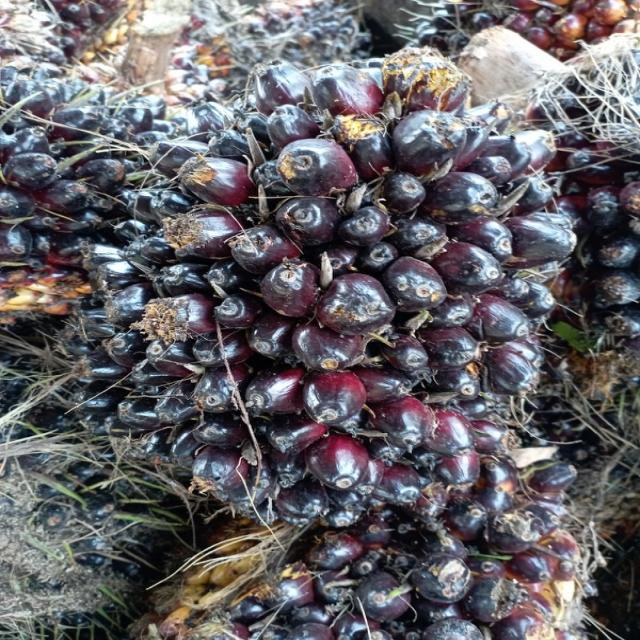fraksi 00: (112, 77, 598, 532)
